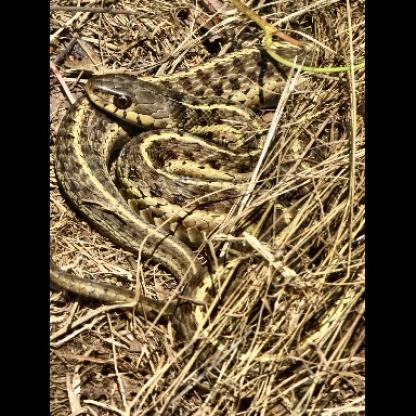Snake: (59, 6, 322, 256)
